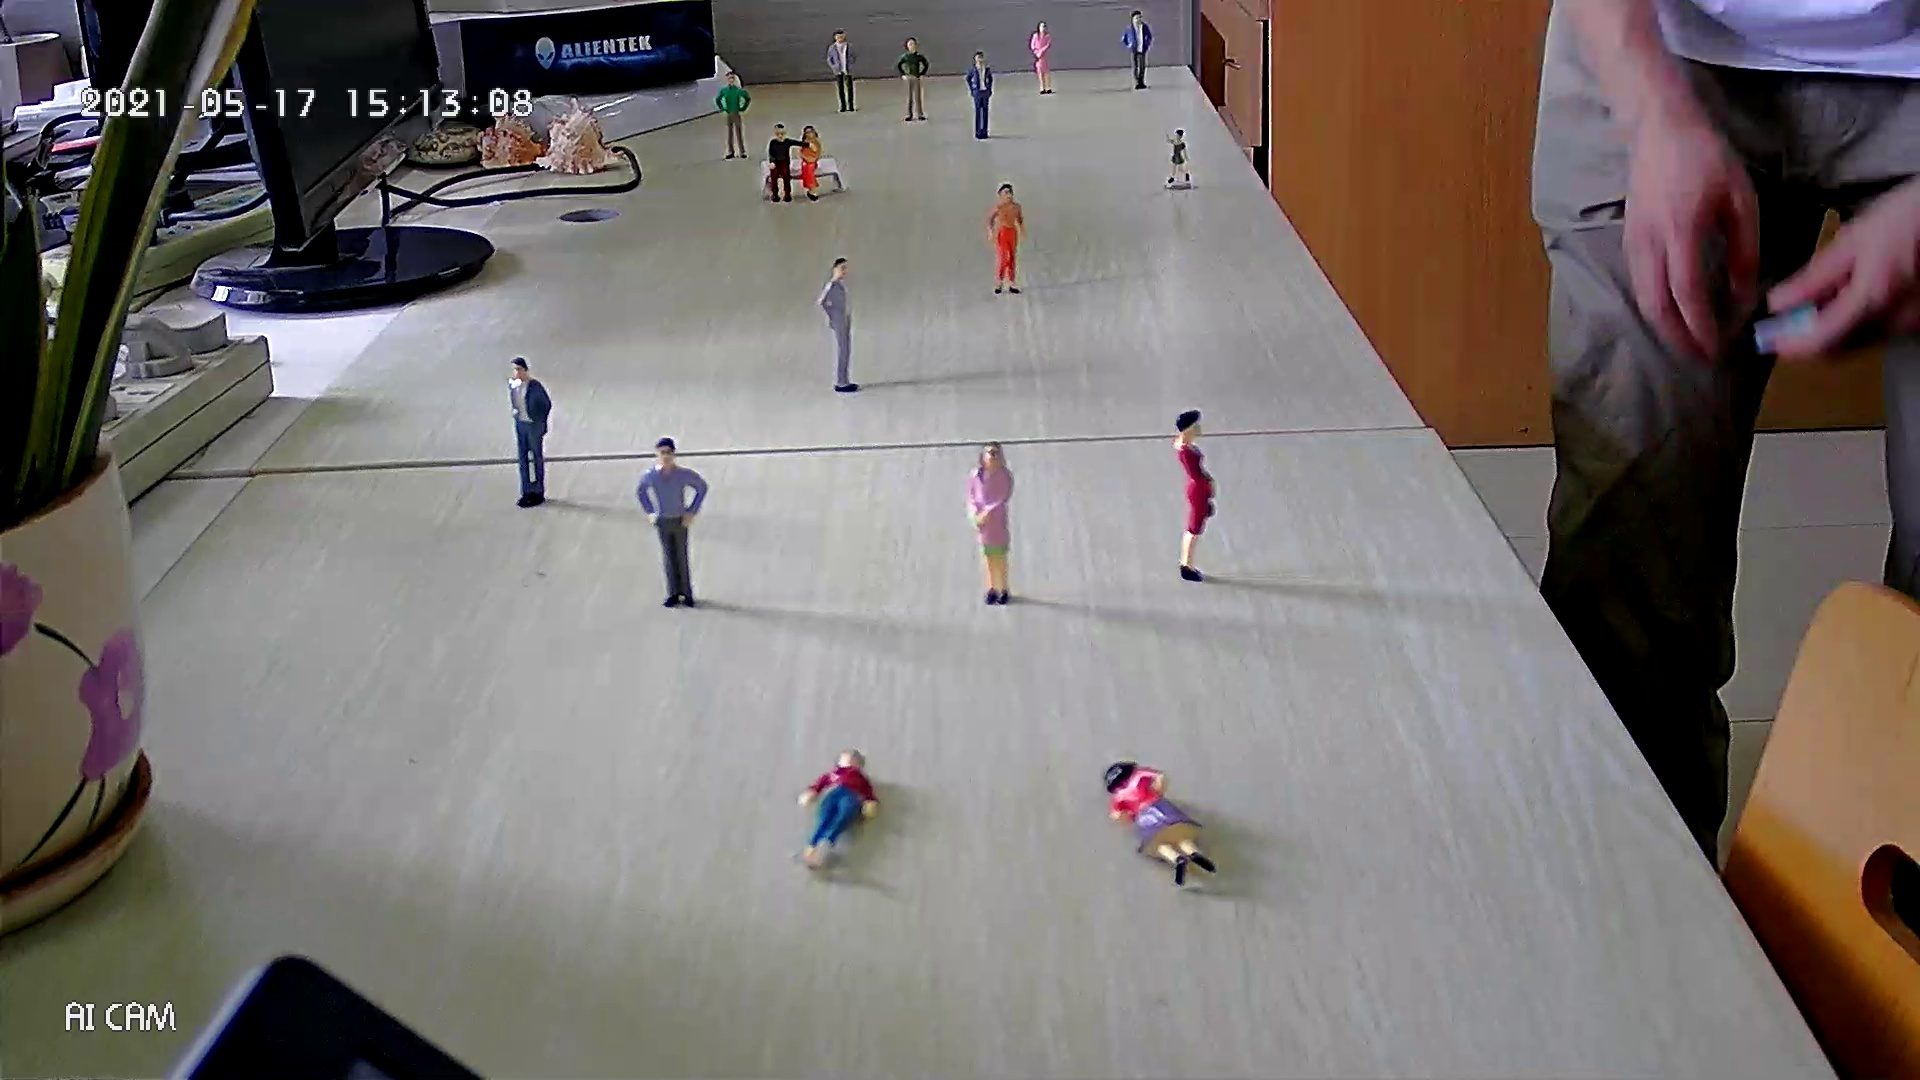person: (1098, 757, 1219, 887), (633, 435, 709, 609), (791, 745, 884, 875), (1168, 407, 1219, 585), (965, 441, 1018, 607), (505, 355, 553, 510), (815, 255, 862, 394), (983, 181, 1027, 296), (765, 120, 816, 203), (710, 70, 752, 162), (894, 35, 931, 122), (825, 28, 860, 114), (964, 50, 996, 141), (1119, 8, 1154, 91), (1027, 19, 1054, 97), (798, 124, 824, 200), (1165, 125, 1195, 185)
